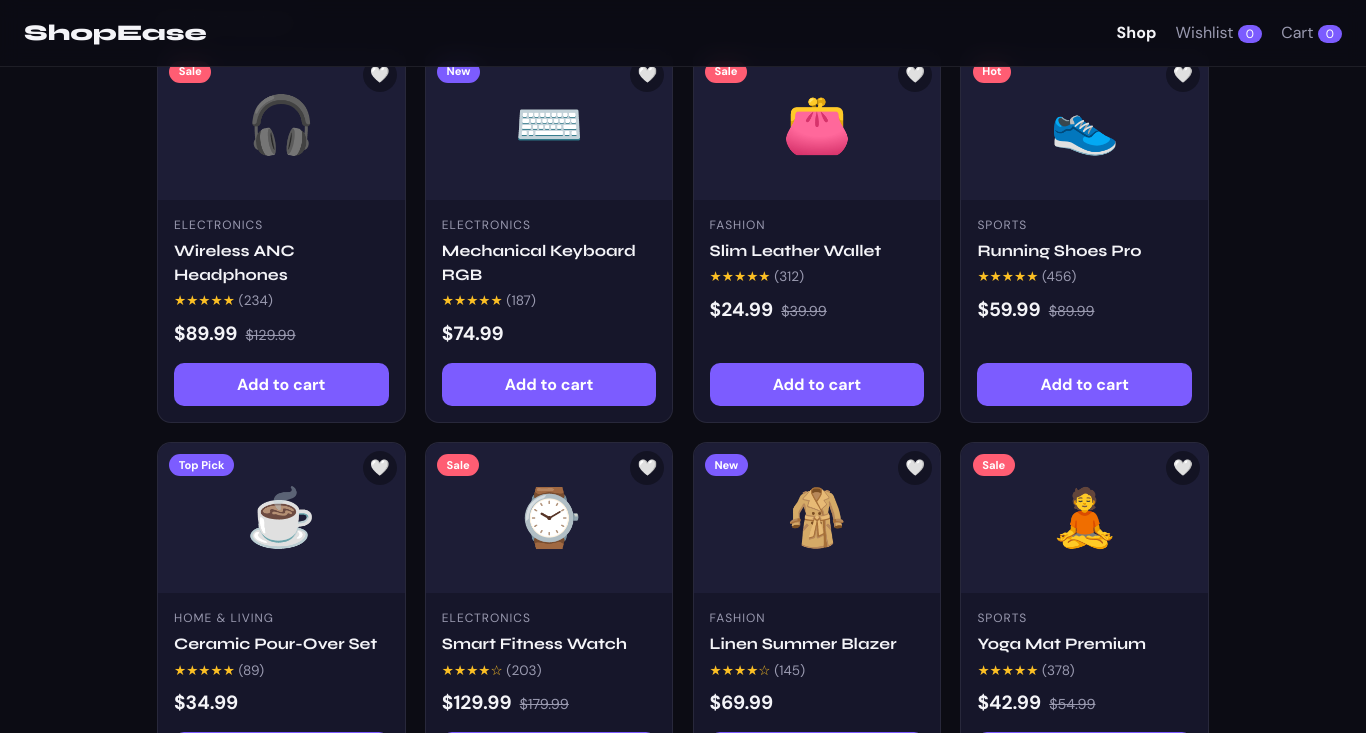
Test case: ShopEase app › adds a product to the cart and shows the total with shipping
(page scrolled)
Step 1. Click the button "Add to cart" below "$24.99" → (817, 384), box [710,363,924,406]
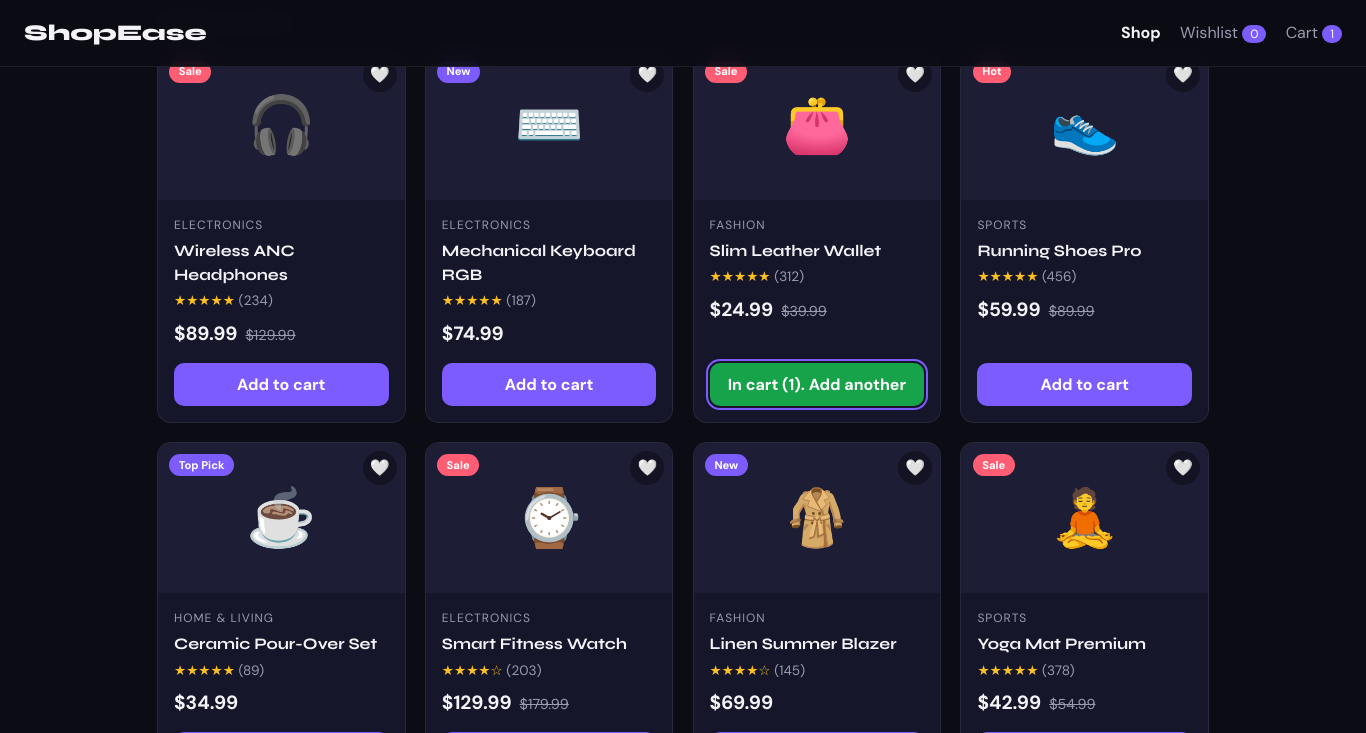
Step 2. Click the link "Cart 1" → (1314, 33), box [1286,21,1342,45]
(page scrolled)
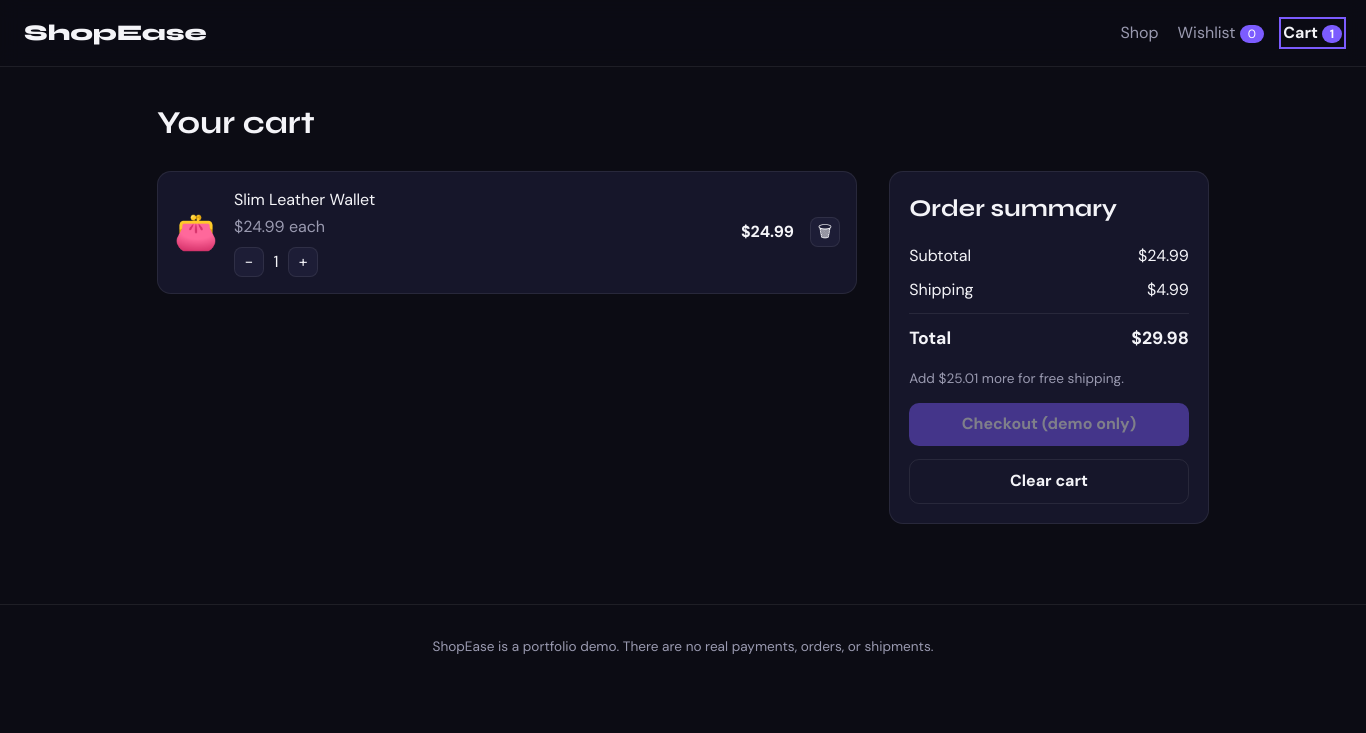
Check: the heading "Your cart" is shown, box [157,103,315,142]
Check: the text "$24.99" in the row of "Subtotal" is shown, box [1138,245,1189,266]
Check: the text "$4.99" is shown, box [1147,278,1189,302]
